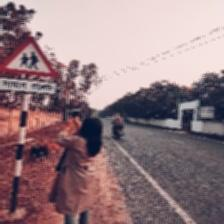College-in-front: (0, 31, 70, 99)
